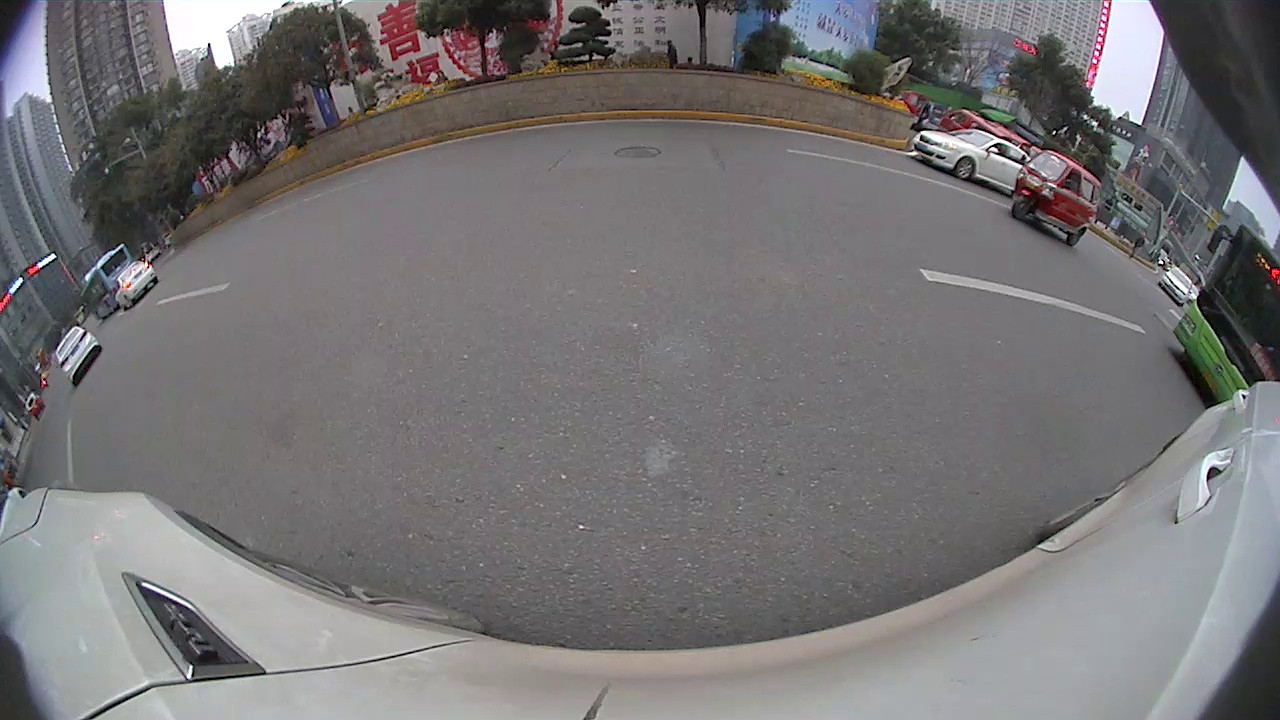bus: (1172, 222, 1278, 404), (78, 242, 133, 321)
car: (914, 127, 1031, 197), (54, 324, 102, 387), (115, 260, 159, 312), (1159, 261, 1195, 307), (0, 487, 26, 527)
front: (950, 157, 978, 181), (1007, 198, 1032, 222)
rear: (1066, 226, 1083, 249)
rider: (1011, 148, 1104, 248), (939, 108, 1003, 146), (988, 117, 1037, 161), (901, 88, 934, 120)
